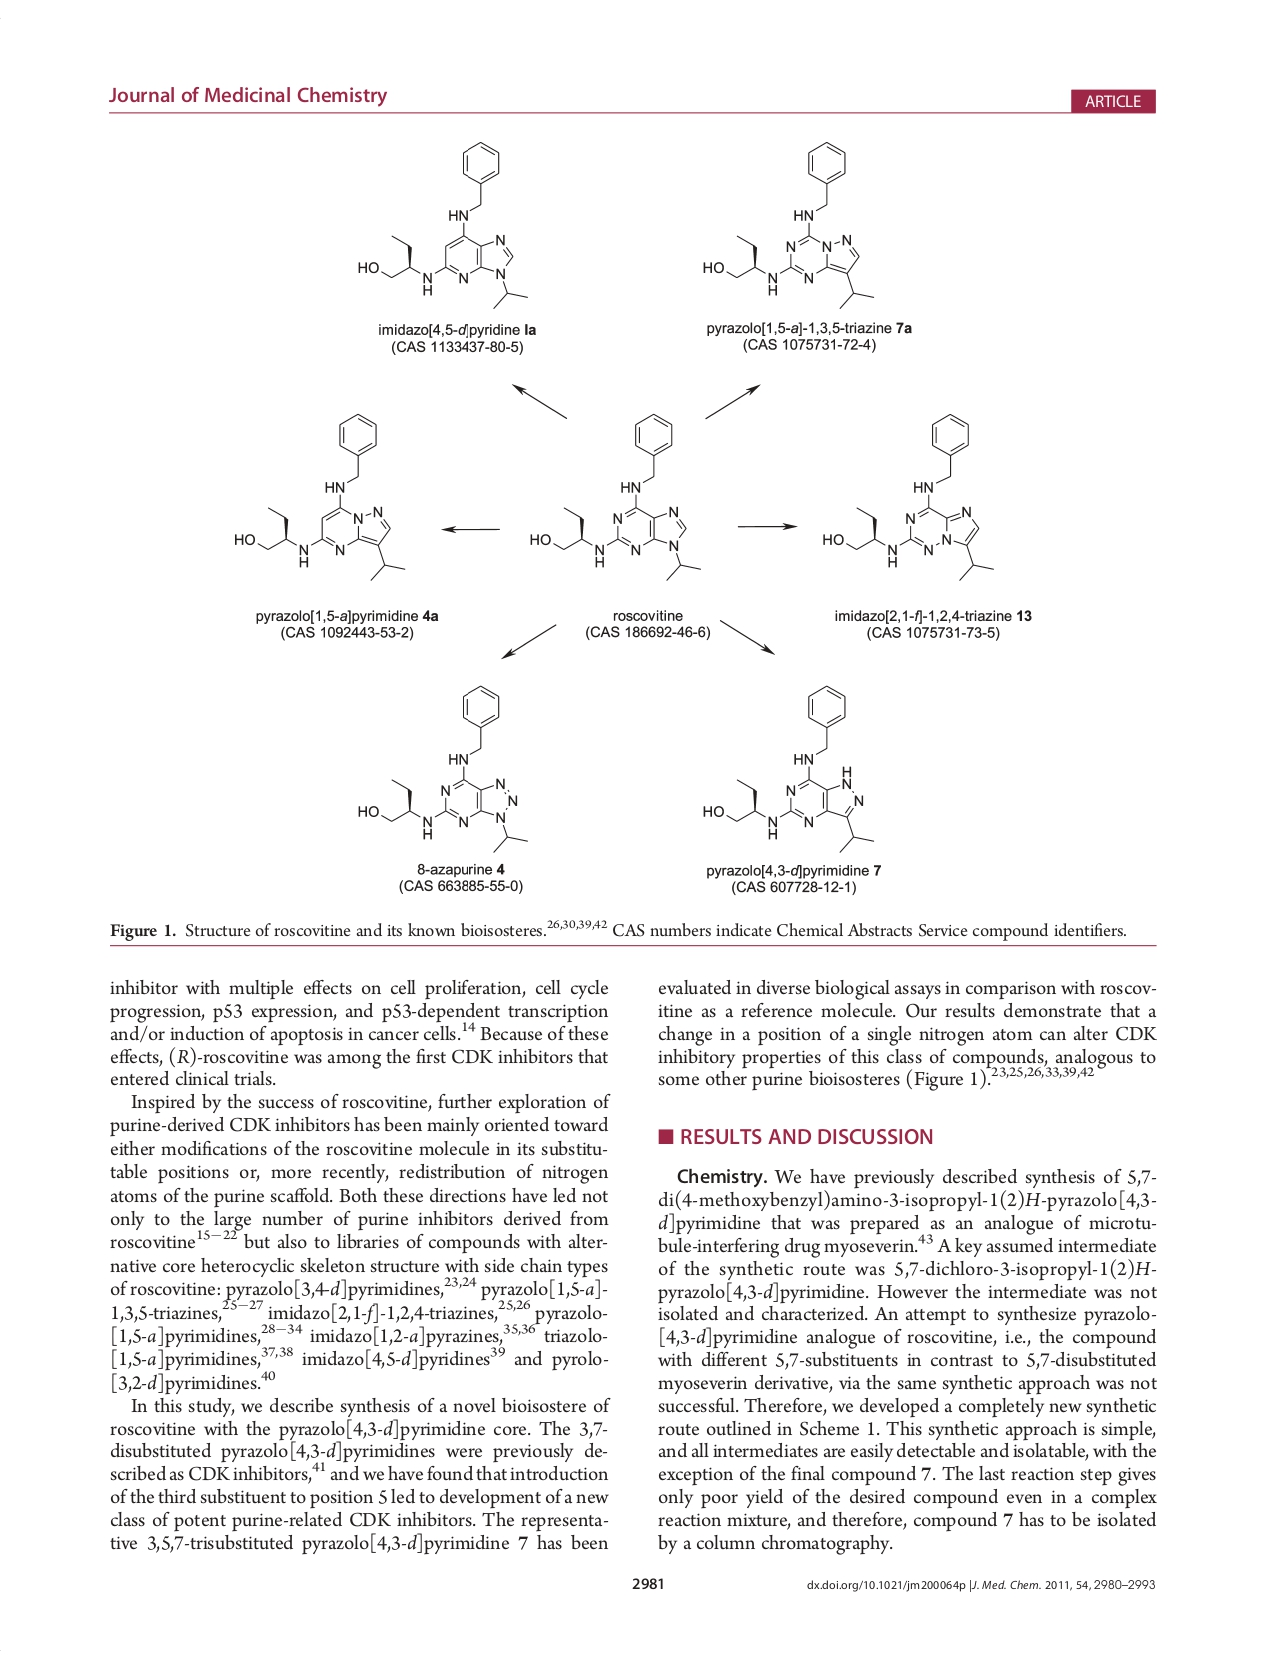exist_molecular: (699, 137, 876, 314), (355, 137, 531, 311), (821, 411, 997, 584), (699, 681, 876, 854), (231, 410, 407, 582), (355, 684, 529, 856), (528, 412, 702, 582)
